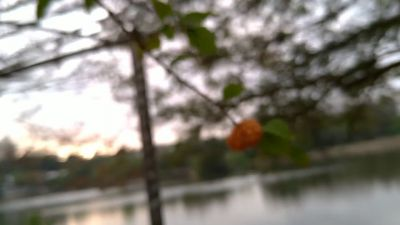eggs: (228, 117, 264, 153)
